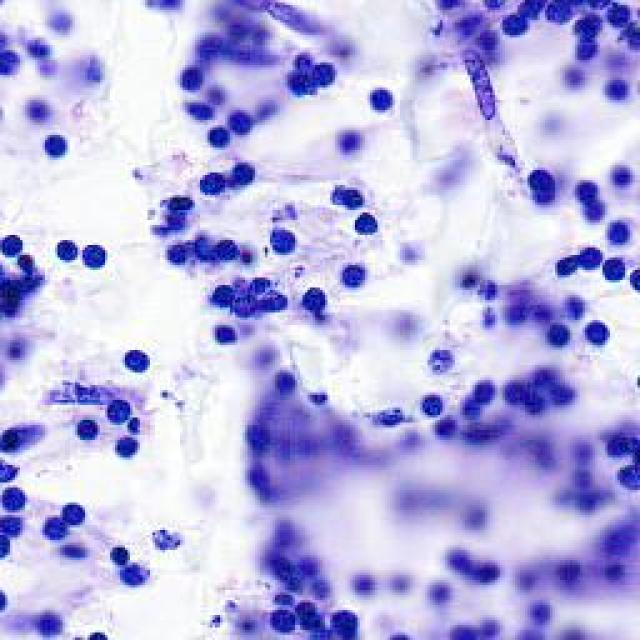cell: (434, 533, 504, 581), (279, 55, 340, 99), (17, 34, 64, 88), (228, 281, 293, 319), (559, 468, 612, 509), (521, 156, 559, 212), (235, 468, 286, 503), (202, 274, 244, 314), (455, 267, 501, 303), (324, 181, 372, 212), (42, 17, 95, 45), (361, 393, 401, 430), (572, 174, 604, 219), (34, 507, 70, 546), (597, 514, 640, 545), (192, 41, 245, 66), (95, 394, 138, 424), (238, 270, 282, 298), (122, 340, 156, 376), (351, 205, 384, 242), (111, 566, 157, 592), (311, 58, 346, 92), (284, 62, 317, 98), (292, 593, 321, 633), (225, 107, 258, 142), (522, 363, 564, 390), (34, 603, 66, 638), (582, 313, 612, 350), (293, 554, 332, 582), (336, 256, 368, 290), (424, 341, 459, 372), (85, 235, 112, 275), (259, 232, 308, 254), (100, 539, 138, 567), (547, 559, 591, 583), (388, 567, 418, 602), (553, 249, 574, 298), (38, 128, 70, 160), (559, 65, 593, 95), (474, 376, 502, 412), (176, 62, 207, 94), (58, 500, 96, 526), (566, 438, 601, 466), (538, 1, 574, 28), (463, 501, 499, 528), (198, 124, 238, 148), (494, 9, 528, 37), (420, 578, 456, 604), (242, 424, 281, 448), (608, 160, 638, 191), (262, 550, 291, 582), (602, 214, 635, 242), (54, 234, 78, 272), (506, 298, 532, 333), (550, 381, 579, 412), (0, 335, 28, 367), (332, 126, 366, 152), (106, 433, 146, 455), (183, 100, 218, 125), (267, 606, 296, 636), (458, 392, 489, 420), (4, 425, 36, 452), (526, 602, 563, 625), (0, 485, 30, 513), (307, 281, 326, 325), (434, 5, 478, 24), (507, 372, 526, 416), (75, 415, 101, 447), (0, 509, 25, 542), (601, 562, 630, 590), (580, 35, 606, 66), (372, 84, 399, 113), (606, 4, 633, 33), (602, 82, 636, 105), (328, 610, 358, 636), (392, 487, 427, 509), (546, 322, 574, 349), (205, 164, 228, 196), (211, 322, 239, 348), (421, 390, 446, 419), (434, 411, 459, 440), (277, 375, 302, 403), (162, 240, 186, 269), (610, 431, 640, 454), (0, 45, 19, 81), (585, 242, 607, 273), (219, 237, 243, 265), (238, 162, 262, 190), (311, 386, 335, 414), (27, 95, 56, 118), (196, 231, 214, 267), (154, 212, 177, 239), (450, 620, 481, 640), (166, 195, 199, 212), (2, 226, 22, 254), (0, 459, 20, 487), (522, 570, 546, 593), (85, 620, 112, 640), (354, 566, 372, 595), (0, 291, 20, 316), (0, 531, 14, 562), (0, 276, 18, 300), (384, 629, 416, 640), (0, 576, 6, 620)
